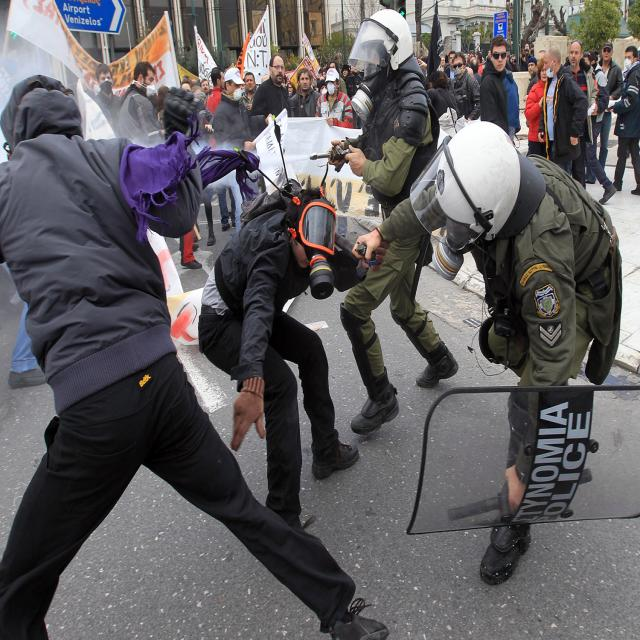police: (404, 88, 622, 635), (314, 0, 434, 457)
